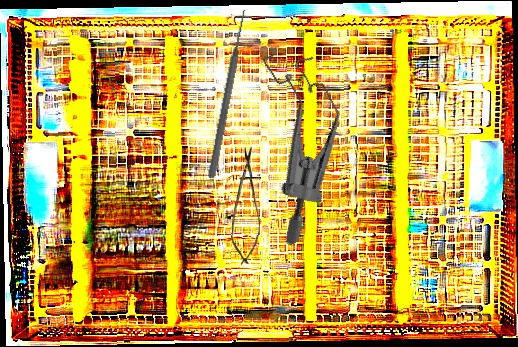Micro Scissor: (230, 145, 262, 267)
Pusher: (206, 8, 250, 179)
Speculum: (203, 31, 386, 248)
